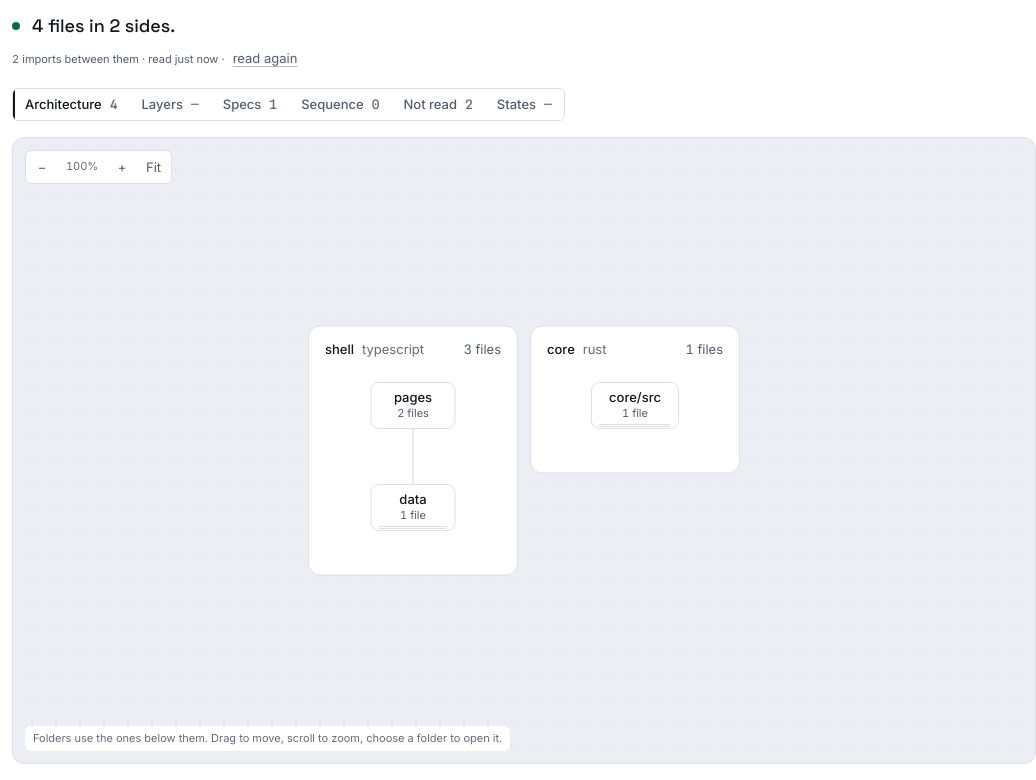
it: the architecture › lists what it could not read rather than leaving it out
Click the button "Not read 2". click: (438, 104)
box: [392, 89, 485, 120]
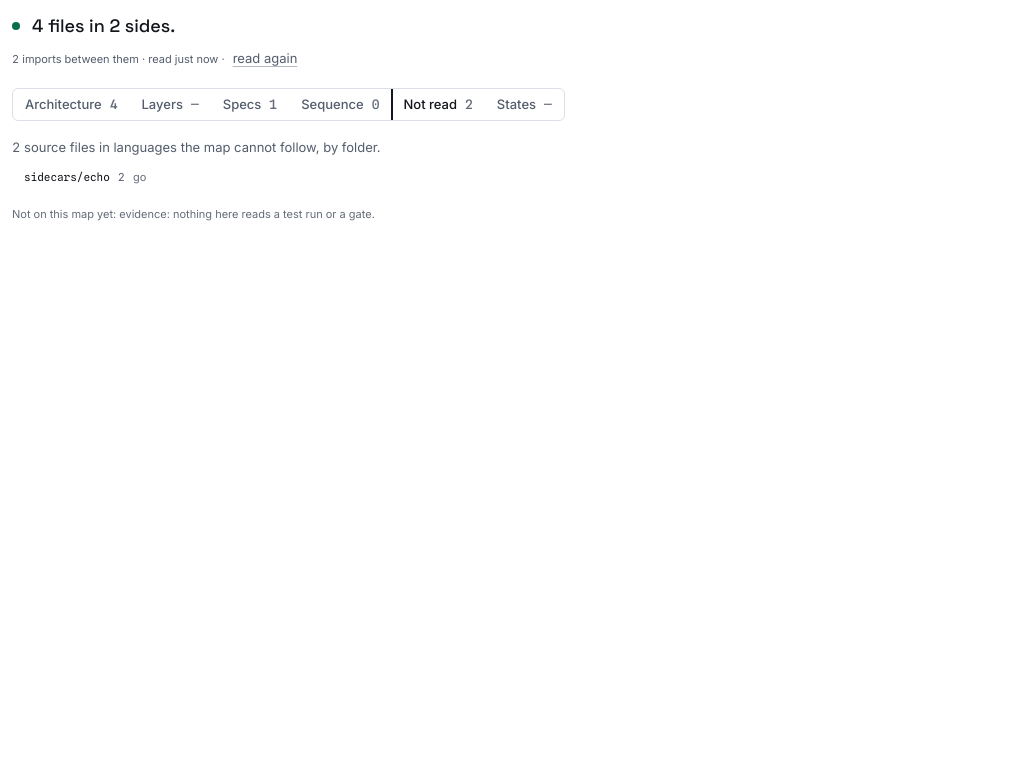
Expected: the text "sidecars/echo" is shown, [24, 169, 110, 186]
Expected: the text "files in languages the map cannot follow" is shown, [20, 139, 381, 155]
